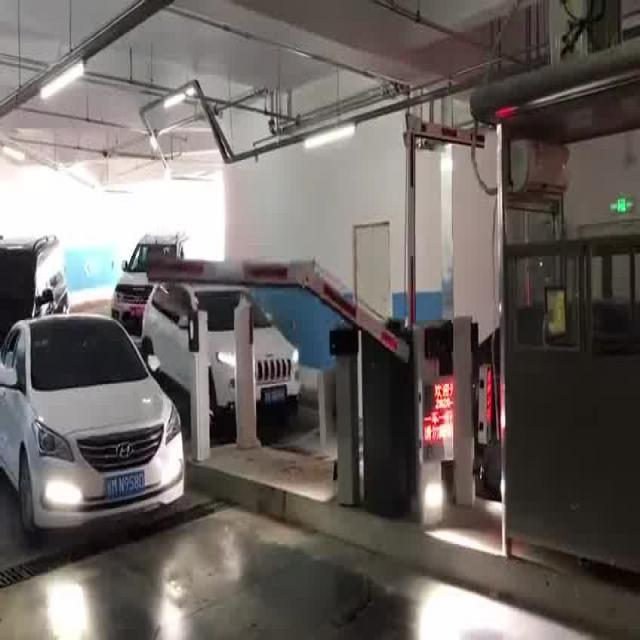CarIn: (104, 186, 218, 346)
GateOpened: (394, 96, 494, 335)
